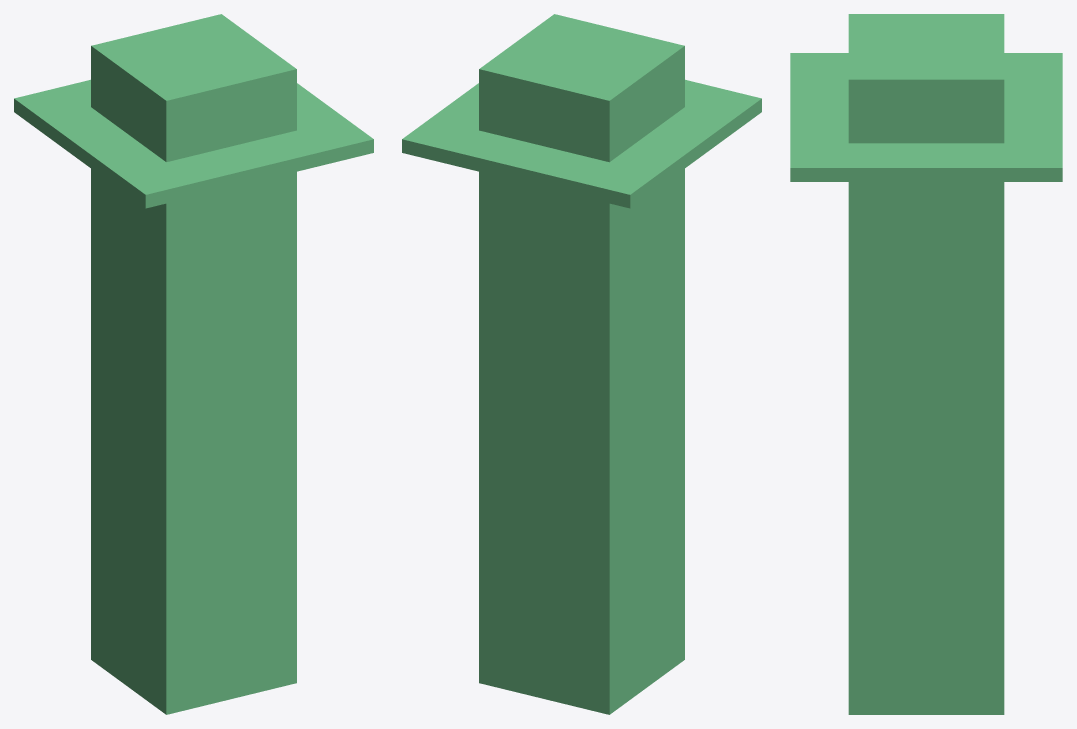
File: guard_post_1p8.glb
3 renders of one model, left to right at view 1: azimuth 30°, elevation 25°; view 2: azimuth 150°, elevation 25°; view 3: azimuth 270°, elevation 25°, orthographic. The views are drawn at different scales.
Parts seen in each view (by area): view 1: guard_post_1p8; view 2: guard_post_1p8; view 3: guard_post_1p8.
Boxes of the visible parts, x1,y1,x2,y2 form: guard_post_1p8: (14,14,373,714); guard_post_1p8: (402,14,761,714); guard_post_1p8: (790,14,1062,714).
Bounding box in the file's own units: 0.7 × 1.8 × 0.7.
